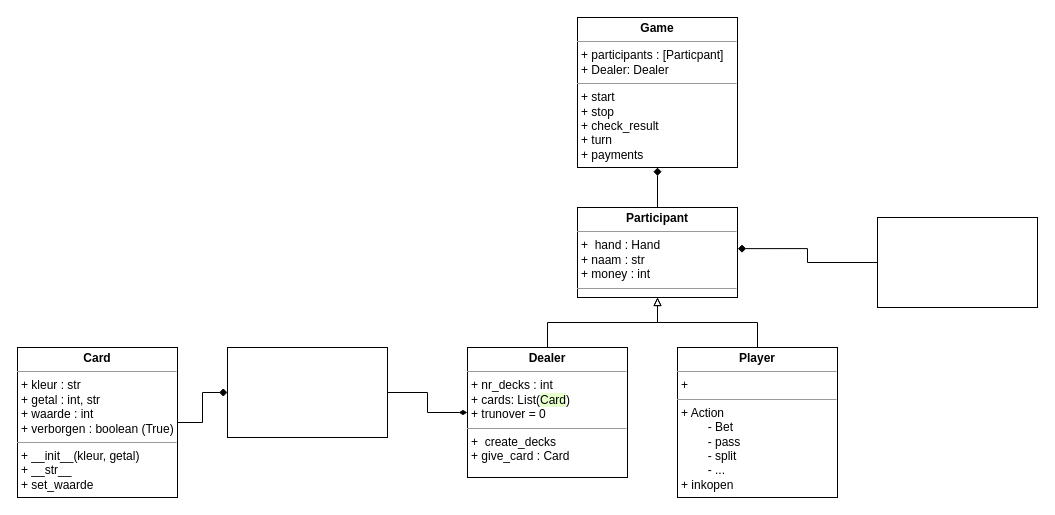
Image size: 1055x515. Some labels were removed from this diagram. Each missing label, with the box of its shape:
Deck + cards: List(Card) + create + shuffle: (226, 346, 388, 438)
Hand + cards : [Card] + blackjack : boolean + get_value(Hand): (876, 216, 1038, 308)
